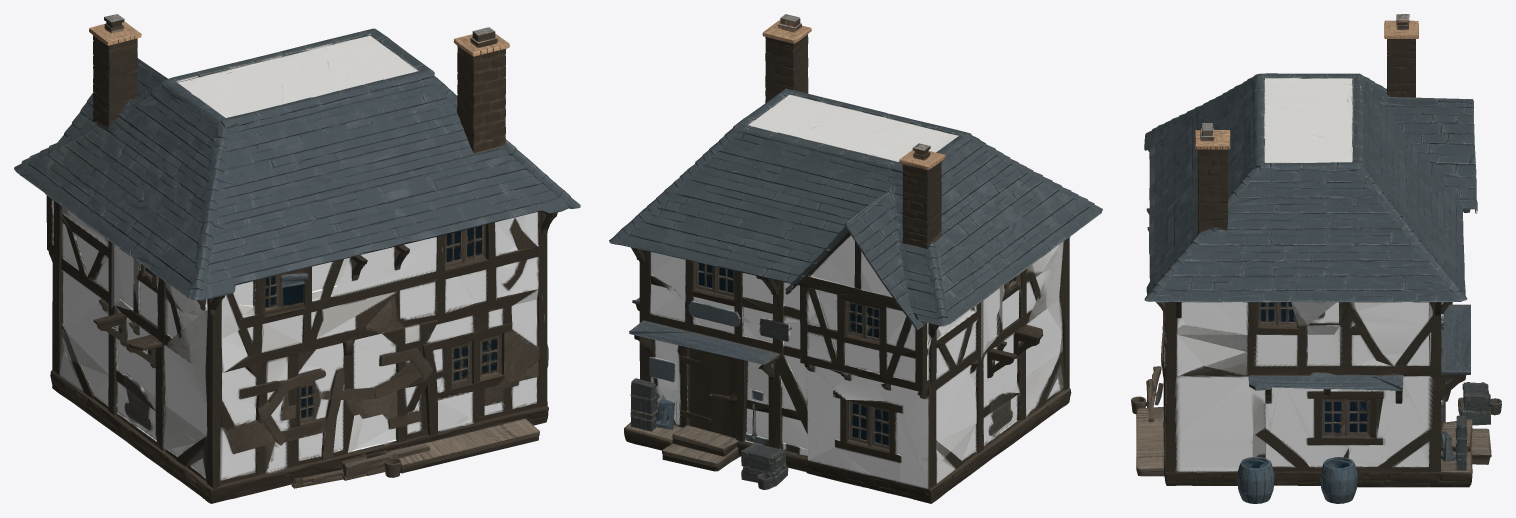
3 renders of one model, left to right at view 1: azimuth 30°, elevation 25°; view 2: azimuth 150°, elevation 25°; view 3: azimuth 270°, elevation 25°, orthographic. The views are drawn at different scales.
Size of the model in its own units: 1.85 by 1.65 by 1.61.
1 material, 1 textured.
